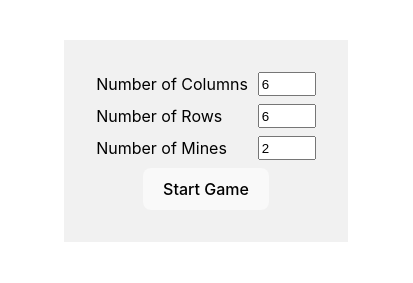
Scenario: GameSettings Component test suite › shows error for number of mines less than or equal to 0
Replace the text in the number field with placeholder "Number of Mines" next to "Number of Mines" with "0" at (287, 148), box left=258, top=136, right=316, bottom=160
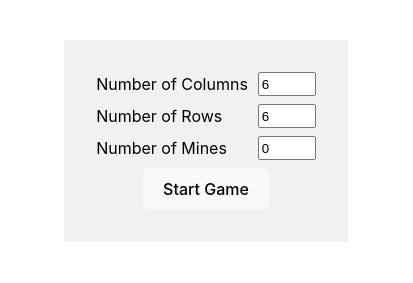
Click the button "Start Game" at (206, 189), box left=143, top=168, right=269, bottom=210
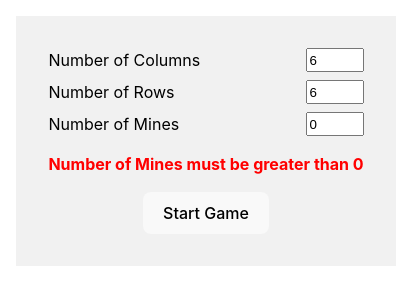
Check: the text "Number of Mines must be greater than 0" is shown, box left=48, top=152, right=364, bottom=176
